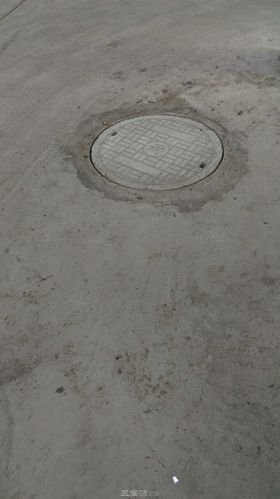good: (57, 95, 255, 214)
